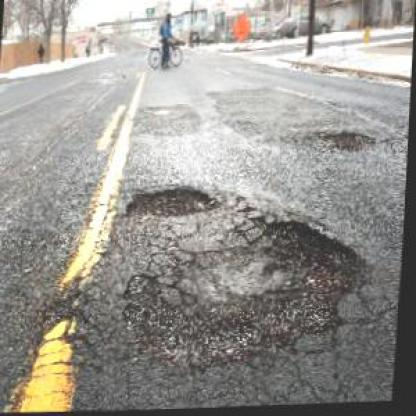pothole: (118, 207, 376, 377), (122, 182, 223, 220), (308, 128, 376, 156)
